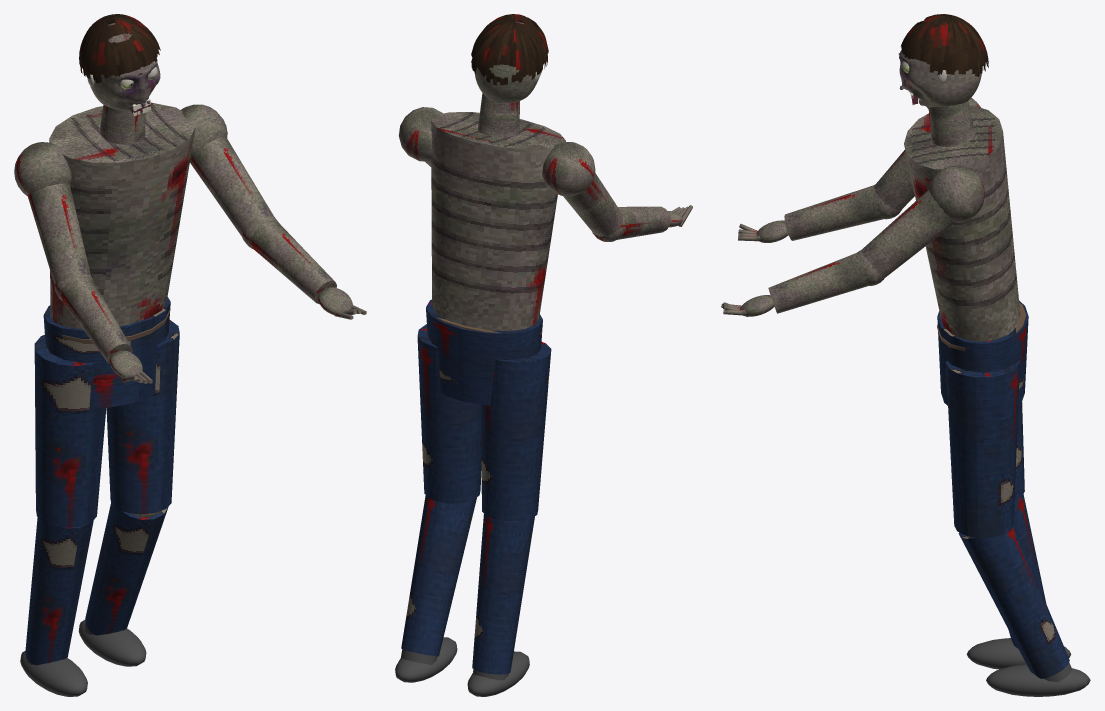
The model's file is Zombie_123.glb.
3 views of the same model, side by side, from view 1: azimuth 30°, elevation 25°; view 2: azimuth 150°, elevation 25°; view 3: azimuth 270°, elevation 25° (orthographic). The views are drawn at different scales.
Visible parts, largest first — view 1: Zombie_123, object 42, object 10, object 3, object 16, object 11, object 4; view 2: Zombie_123, object 42, object 16, object 3; view 3: Zombie_123, object 42, object 10, object 3, object 16.
Boxes of the visible parts, bbox=[...] form: Zombie_123: bbox=[14, 102, 273, 696]; object 42: bbox=[79, 14, 160, 80]; object 10: bbox=[250, 220, 336, 304]; object 3: bbox=[60, 276, 132, 364]; object 16: bbox=[90, 23, 160, 112]; object 11: bbox=[318, 287, 352, 315]; object 4: bbox=[110, 350, 142, 377]; Zombie_123: bbox=[395, 93, 622, 696]; object 42: bbox=[471, 14, 548, 83]; object 16: bbox=[474, 21, 543, 102]; object 3: bbox=[617, 206, 670, 239]; Zombie_123: bbox=[861, 97, 1090, 696]; object 42: bbox=[898, 14, 988, 73]; object 10: bbox=[768, 253, 868, 313]; object 3: bbox=[784, 185, 883, 240]; object 16: bbox=[899, 50, 981, 109].
Size of the model in its own units: 0.6195 by 1.79 by 0.9065.
Materials: 16 (6 with a texture image).
